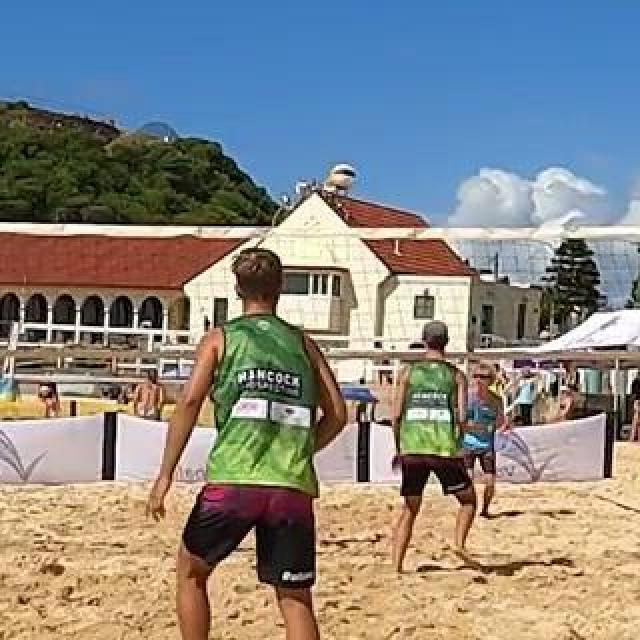volleyball: (328, 165, 356, 191)
